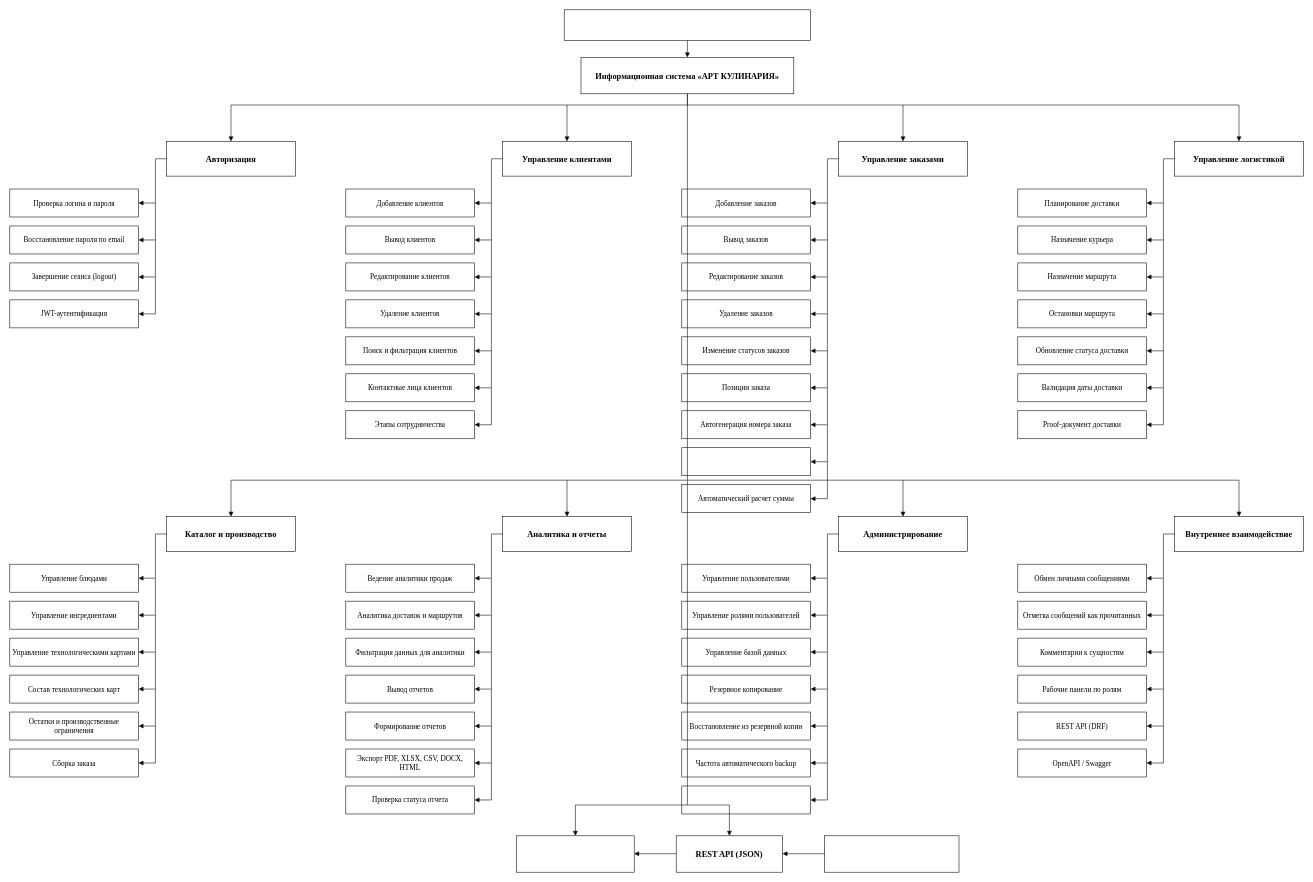
This 1313x882 diagram has some shape labels left out. Each missing label, with the box of its shape:
Аудит действий пользователей: (681, 785, 811, 814)
База данных PostgreSQL: (516, 835, 634, 872)
Пользователи системы (Web-браузер): (824, 835, 959, 872)
Проверка доступности заказа: (681, 447, 811, 476)
Функциональная схема ArtCulinary: (564, 9, 811, 41)
